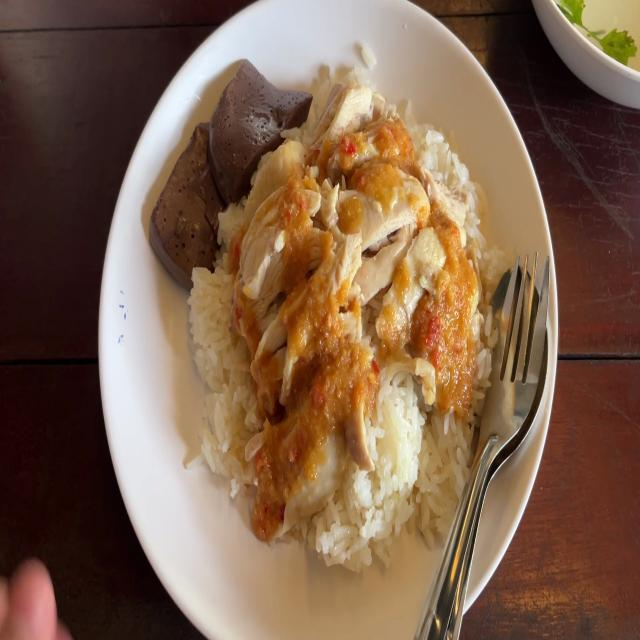boiled_chicken: (257, 138, 434, 432)
boiled_chicken_blood_jelly: (150, 110, 228, 274), (212, 59, 304, 176)
chicken_rice: (148, 42, 495, 573)
